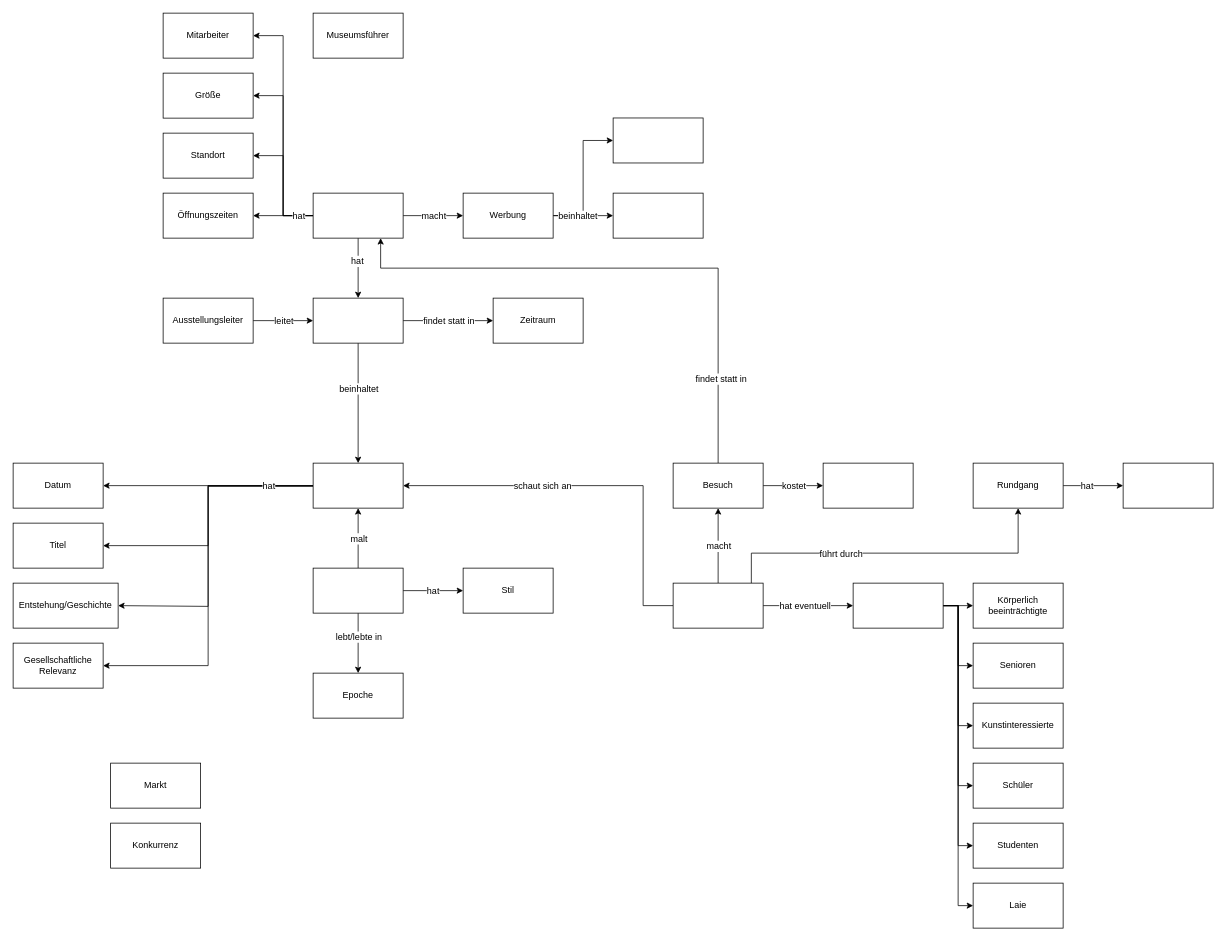
The diagram is 1226 pixels wide and 941 high, and some of its shapes have lost their labels. The shapes that lost their labels are listed below. From the top down, each one's centre as x and y in pixels, then its label:
(x=657, y=140): Plakate
(x=357, y=215): Museum
(x=657, y=215): Internetpräsenz
(x=357, y=320): Ausstellung
(x=357, y=485): Gemälde
(x=867, y=485): Preis
(x=1167, y=485): Dauer
(x=357, y=590): Künstler
(x=717, y=605): Besucher
(x=897, y=605): Eigenschaften
